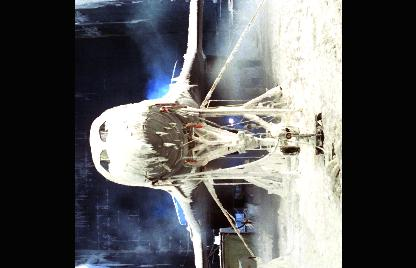AV8B: (87, 0, 302, 267)
